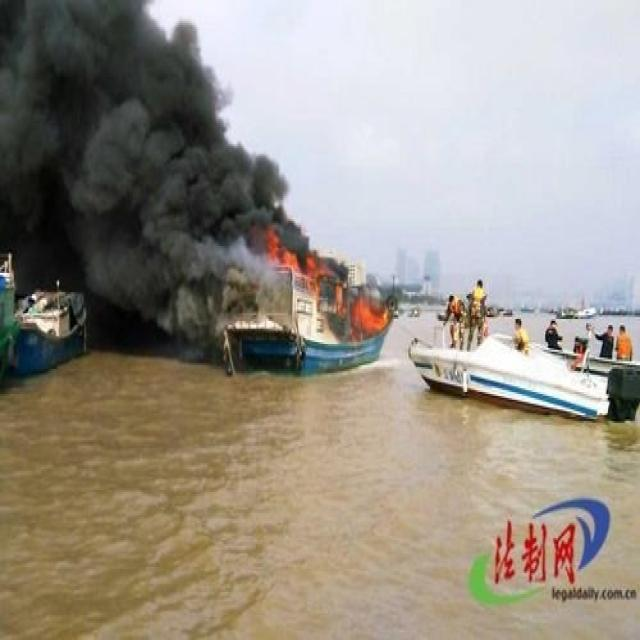Fire: (264, 226, 389, 342)
Smoke: (1, 1, 403, 362)
